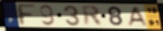3: (64, 5, 81, 27)
8: (107, 5, 125, 27)
9: (39, 4, 56, 27)
A: (126, 6, 149, 27)
F: (14, 3, 37, 26)
R: (80, 5, 105, 27)
